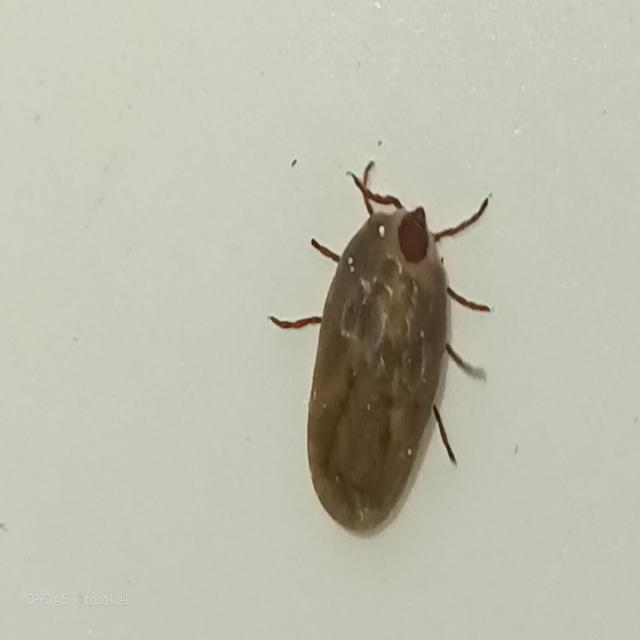Rhipicephalus Sanguineus-F-Fed: (272, 165, 489, 540)
